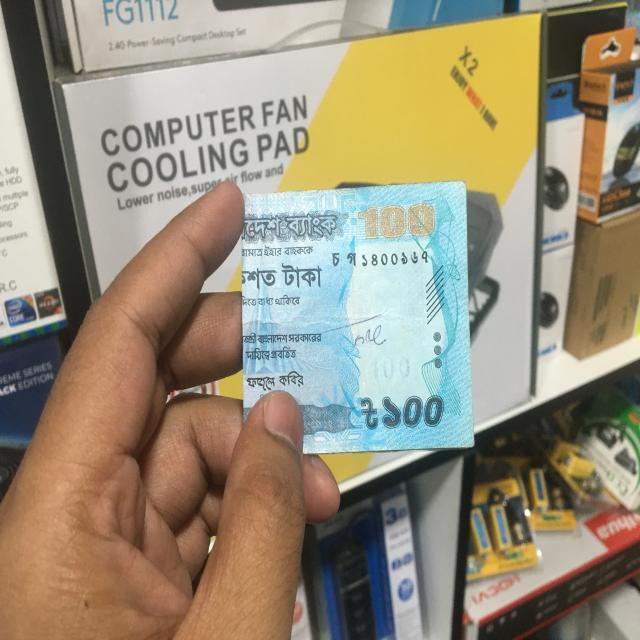Taka: (240, 191, 472, 455)
